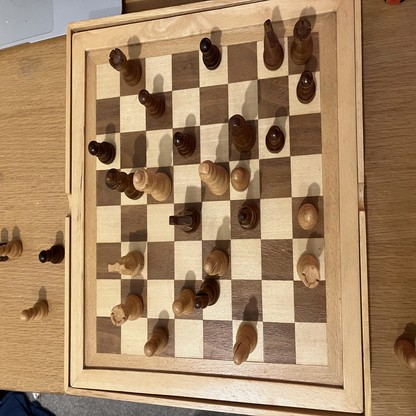bishop_black: (194, 279, 220, 309), (238, 202, 259, 230)
bishop_white: (233, 325, 256, 364), (203, 251, 228, 275)
king_black: (229, 115, 256, 153)
king_white: (198, 160, 230, 195)
knight_black: (263, 20, 283, 70), (170, 208, 201, 233)
knight_white: (108, 251, 144, 276)
pawn_black: (138, 90, 166, 119), (200, 38, 222, 70), (296, 72, 317, 104), (88, 140, 116, 164), (173, 132, 196, 157), (265, 127, 285, 153), (40, 246, 64, 264)
pawn_white: (143, 327, 168, 357), (395, 340, 416, 369), (172, 288, 195, 314), (20, 302, 49, 321), (298, 204, 317, 229), (231, 166, 249, 191)
queen_black: (105, 169, 143, 200)
queen_white: (133, 168, 171, 202)
rock_black: (108, 49, 141, 87), (291, 19, 312, 64)
rock_white: (111, 295, 143, 326), (297, 253, 321, 289)
